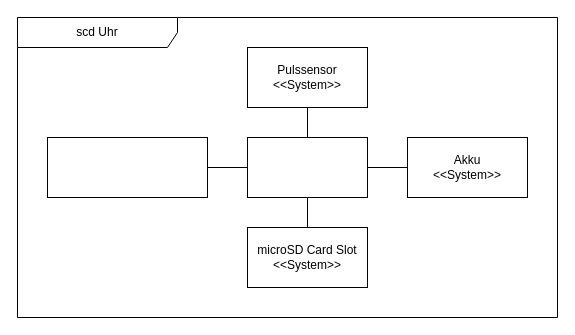
The diagram is 575 pixels wide and 335 high, and some of its shapes have lost their labels. The shapes that lost their labels are listed below. From the top down, each one's centre as x and y in pixels, then its label:
At (x=127, y=167): "Beschleunigugnssensor und Gyroskop <<System>>".
At (x=307, y=167): "CPU <<System>>".
